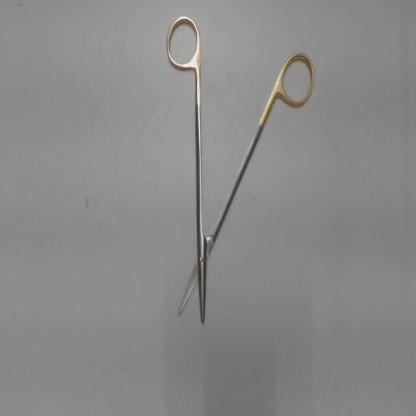7 Metzenbaum Scissors: (164, 11, 318, 328)
